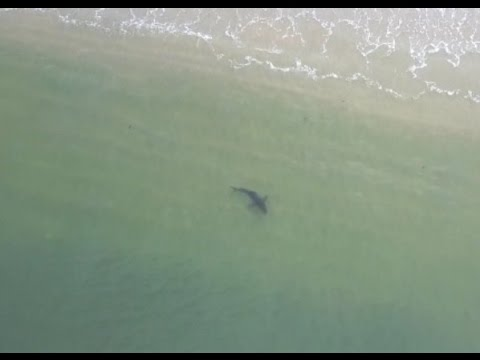shark: (225, 183, 271, 219)
